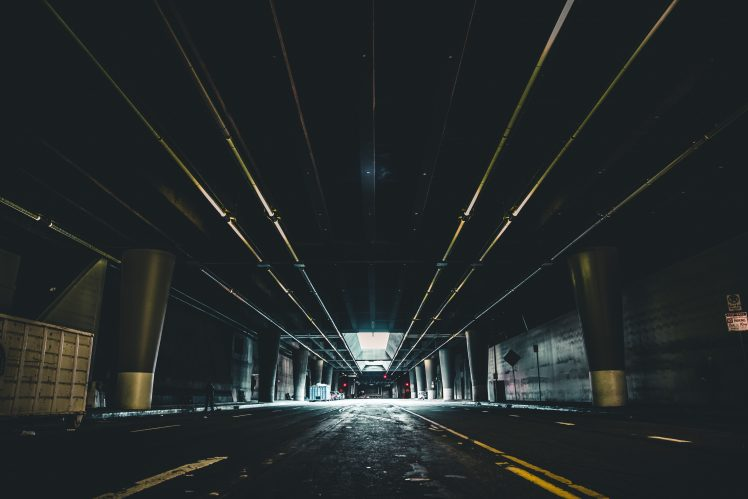strada: (60, 401, 732, 496)
